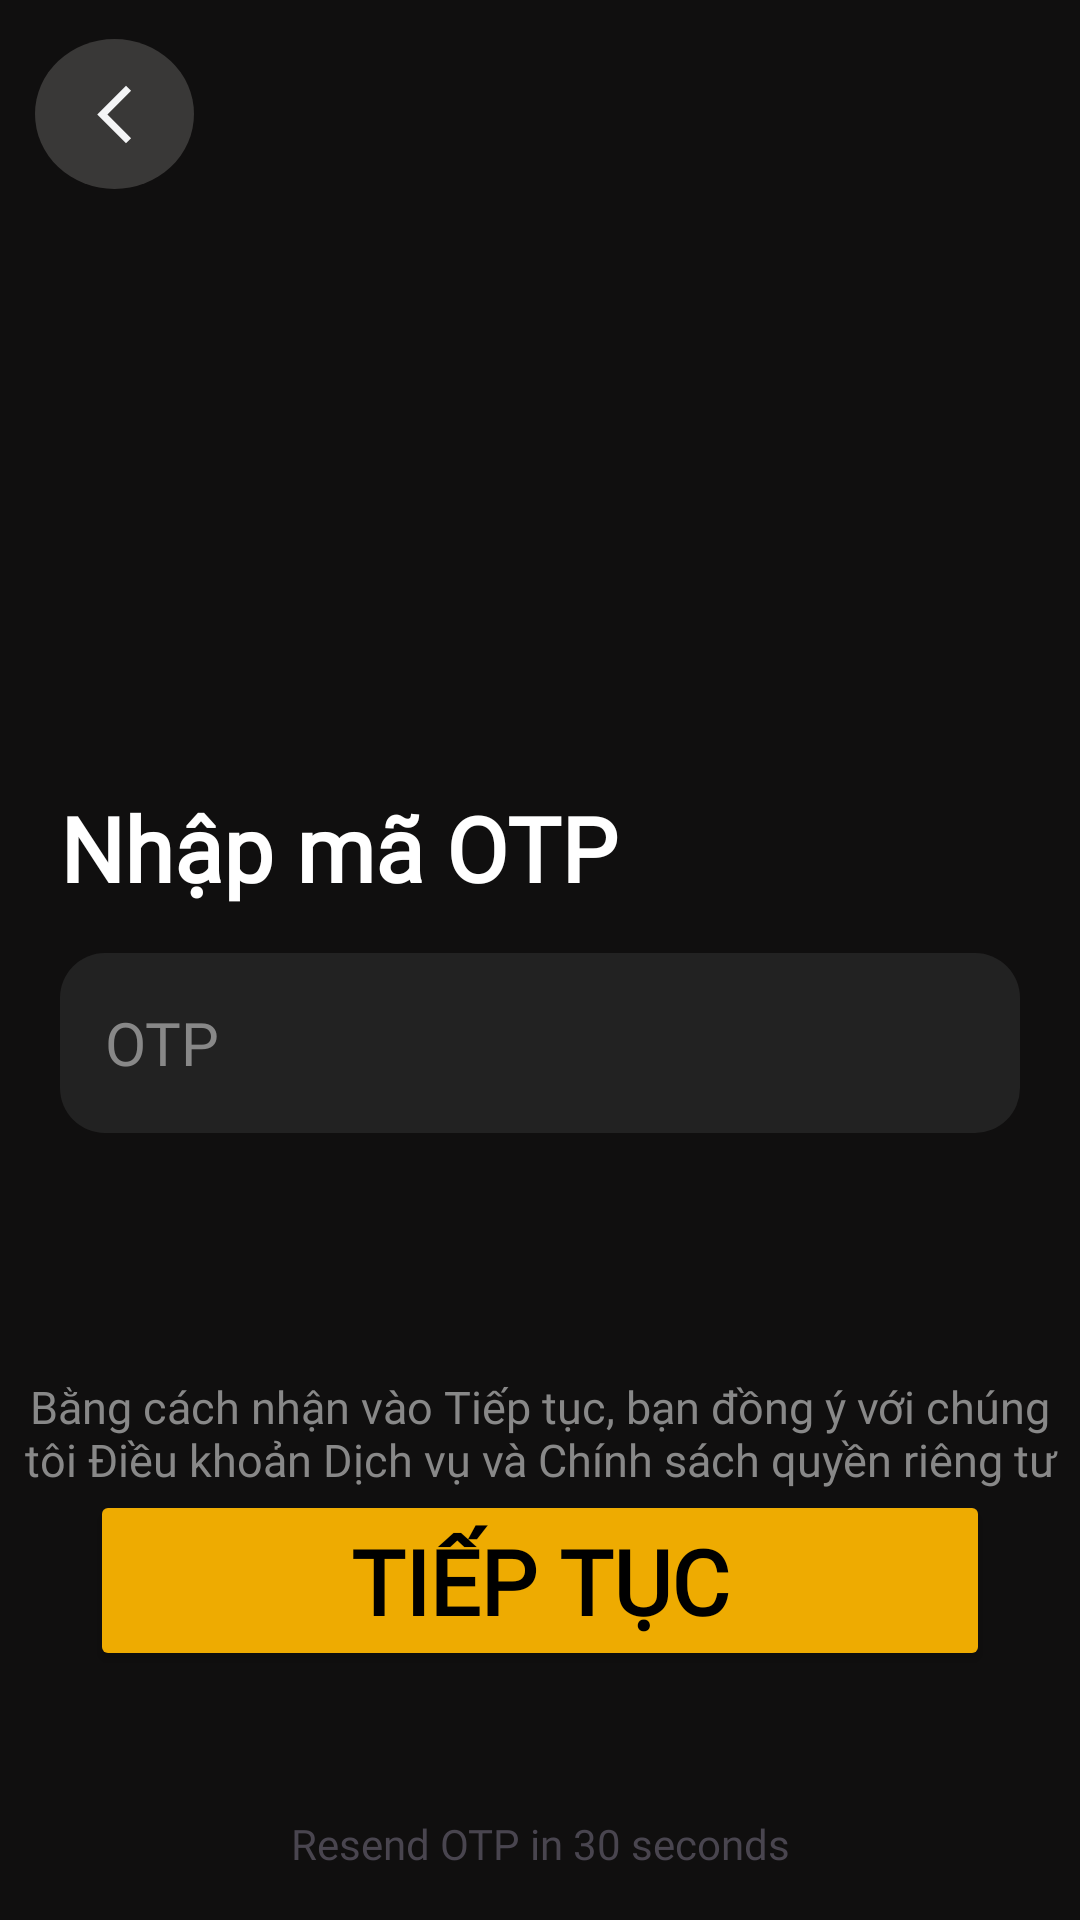

Named icons in this screenshot (1080w x 1920h) and their centers, (x=x, y=y):
left arrow: (x=114, y=114)
